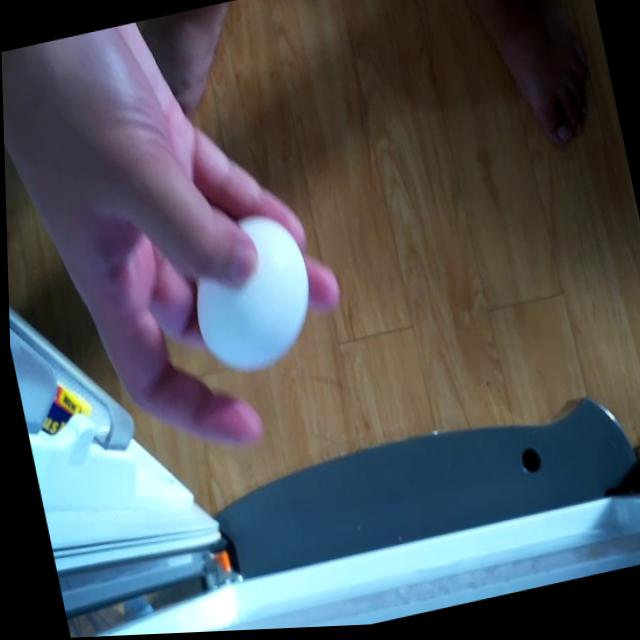egg: (176, 198, 329, 383)
